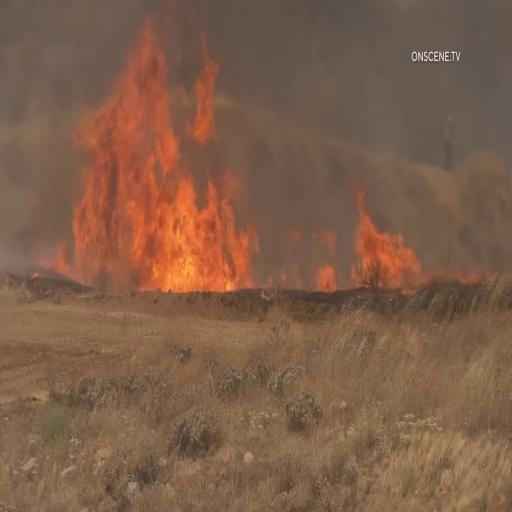fire: (70, 2, 246, 286), (349, 170, 427, 290), (313, 235, 337, 295)
